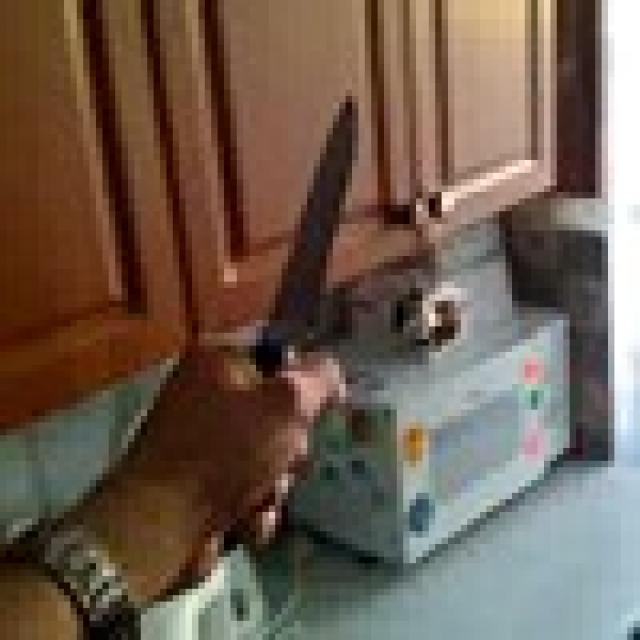Weapons: (246, 92, 376, 372)
